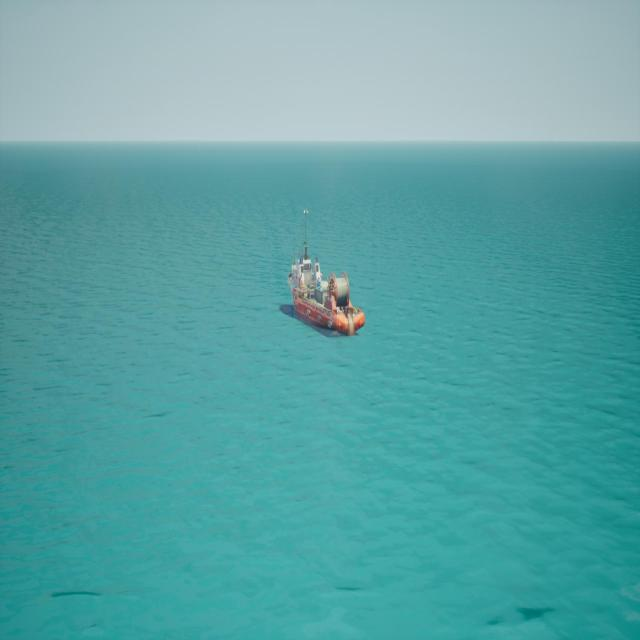tug boat: (283, 212, 364, 343)
